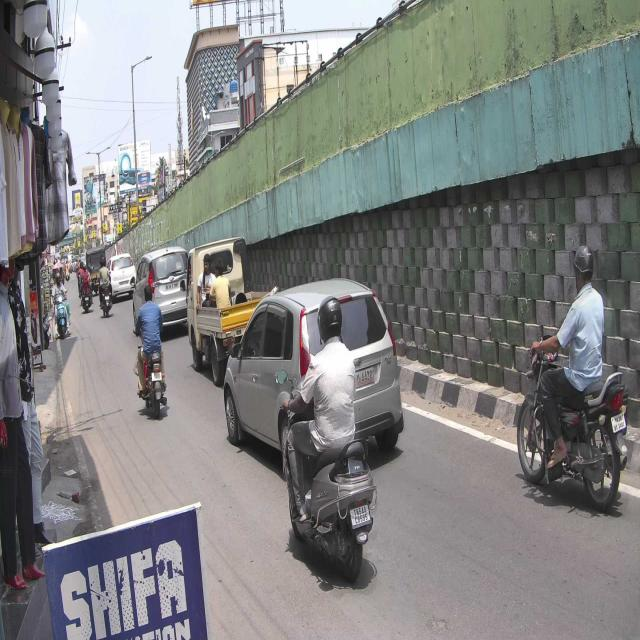single_rider: (516, 243, 628, 515), (280, 294, 377, 584)
